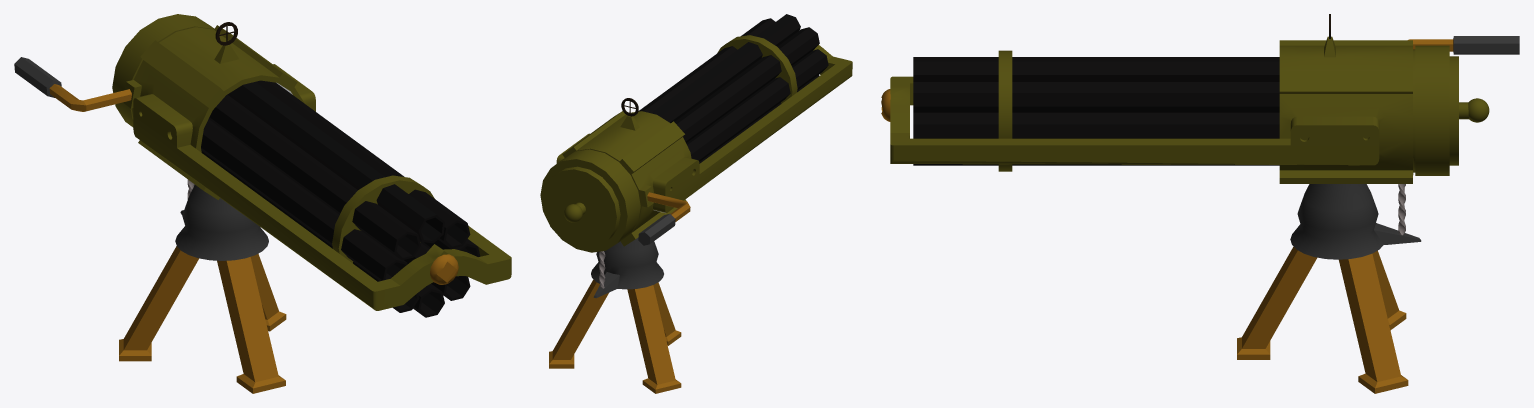
The model's file is GatlingGun.fbx.
The picture shows the model from 3 angles, left to right: view 1: azimuth 30°, elevation 25°; view 2: azimuth 150°, elevation 25°; view 3: azimuth 270°, elevation 25°; orthographic projection. The views are drawn at different scales.
Parts seen in each view (by area): view 1: Ametrelladora, Bsse Ametrelladora; view 2: Ametrelladora, Bsse Ametrelladora; view 3: Ametrelladora, Bsse Ametrelladora.
Boxes of the visible parts, x1,y1,x2,y2 form: Ametrelladora: (14,14,511,317); Bsse Ametrelladora: (119,184,286,393); Ametrelladora: (540,14,852,298); Bsse Ametrelladora: (549,237,681,393); Ametrelladora: (881,14,1519,244); Bsse Ametrelladora: (1237,184,1408,393).
Size of the model in its own units: 69.52 by 110 by 188.
